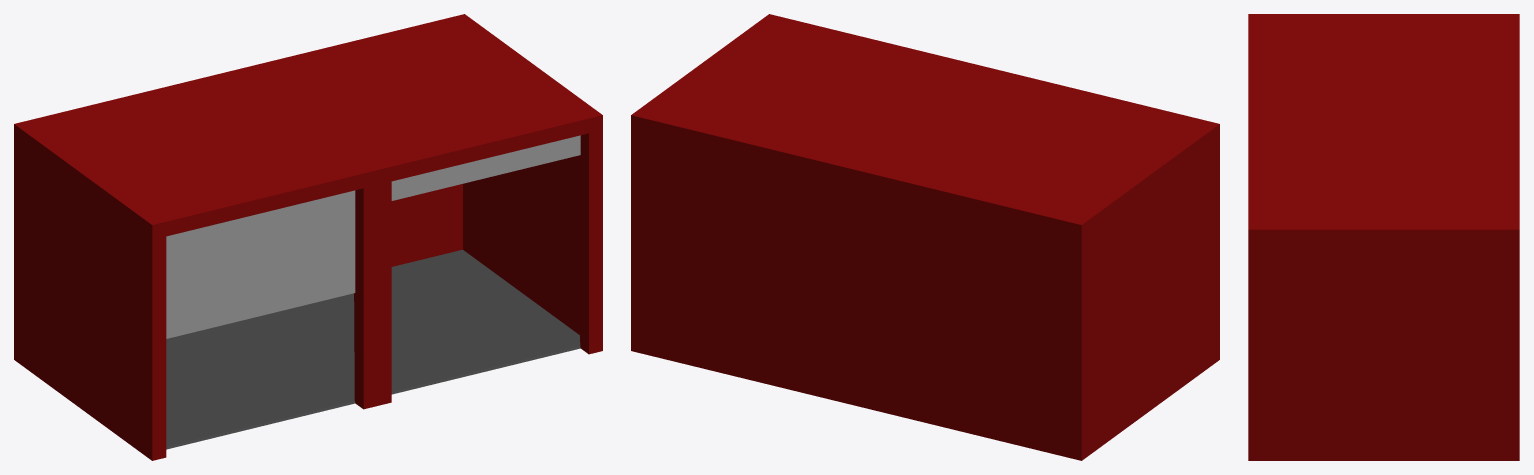
The model's file is Industrial1.fbx.
The picture shows the model from 3 angles, left to right: view 1: azimuth 30°, elevation 25°; view 2: azimuth 150°, elevation 25°; view 3: azimuth 270°, elevation 25°; orthographic projection.
Parts seen in each view (by area): view 1: Cube; view 2: Cube; view 3: Cube.
Part boxes in pixels (left/top/right/bottom): Cube: left=14, top=14, right=602, bottom=460; Cube: left=631, top=14, right=1219, bottom=460; Cube: left=1248, top=14, right=1519, bottom=460.
Size of the model in its own units: 3200 by 1600 by 1700.
